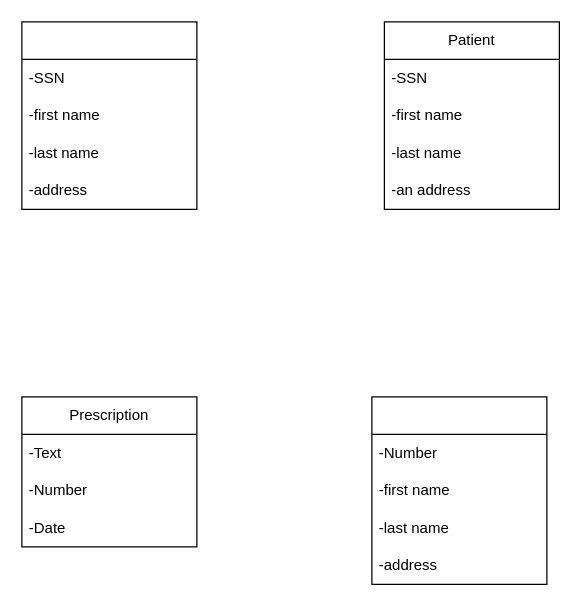
Some shapes in this 581 by 606 pixel diagram are drawn without their labels. The box of each missing label's shape, as (x1, y1, x2, y2) in pixels:
Medical Doctor: (21, 21, 197, 209)
Test: (371, 396, 547, 584)
